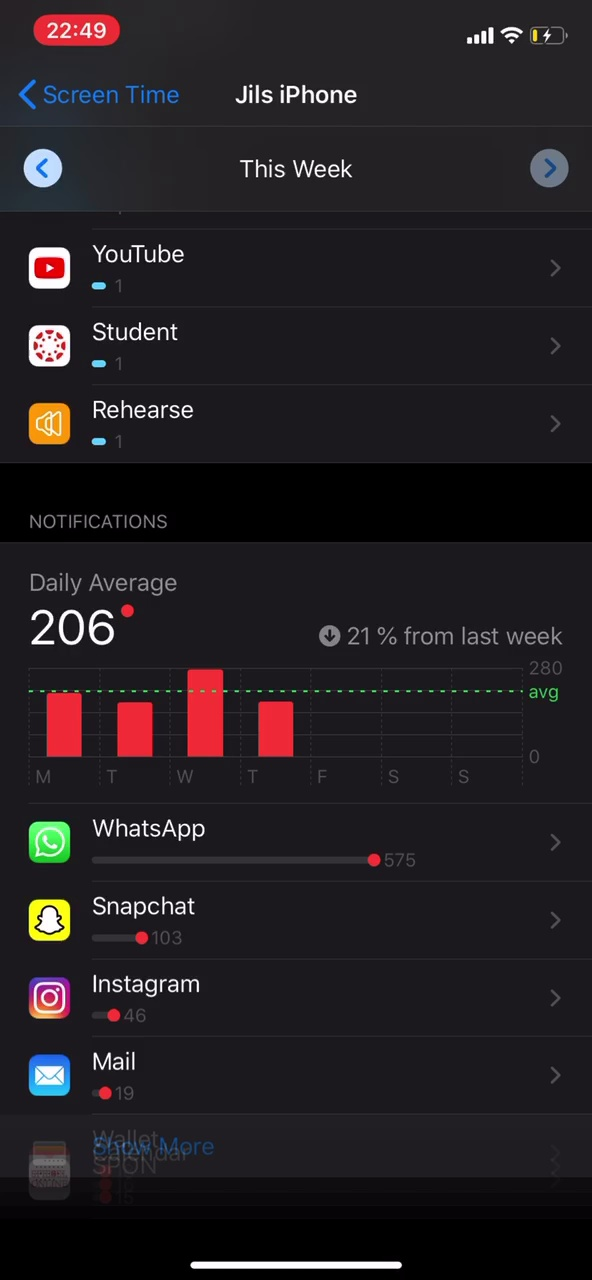not_app: (17, 807, 448, 889), (17, 889, 331, 963), (18, 966, 289, 1036), (20, 1041, 240, 1114)
not_over: (22, 496, 231, 660)
pick_app: (22, 310, 239, 385), (23, 228, 228, 307), (20, 389, 243, 460)
week: (235, 152, 364, 185)
